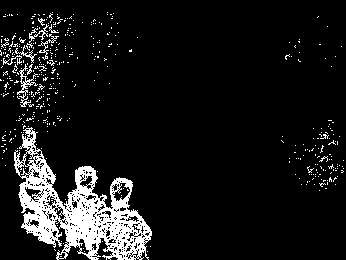person: (13, 159, 65, 242), (65, 163, 105, 258), (105, 177, 152, 257), (14, 128, 58, 186)
